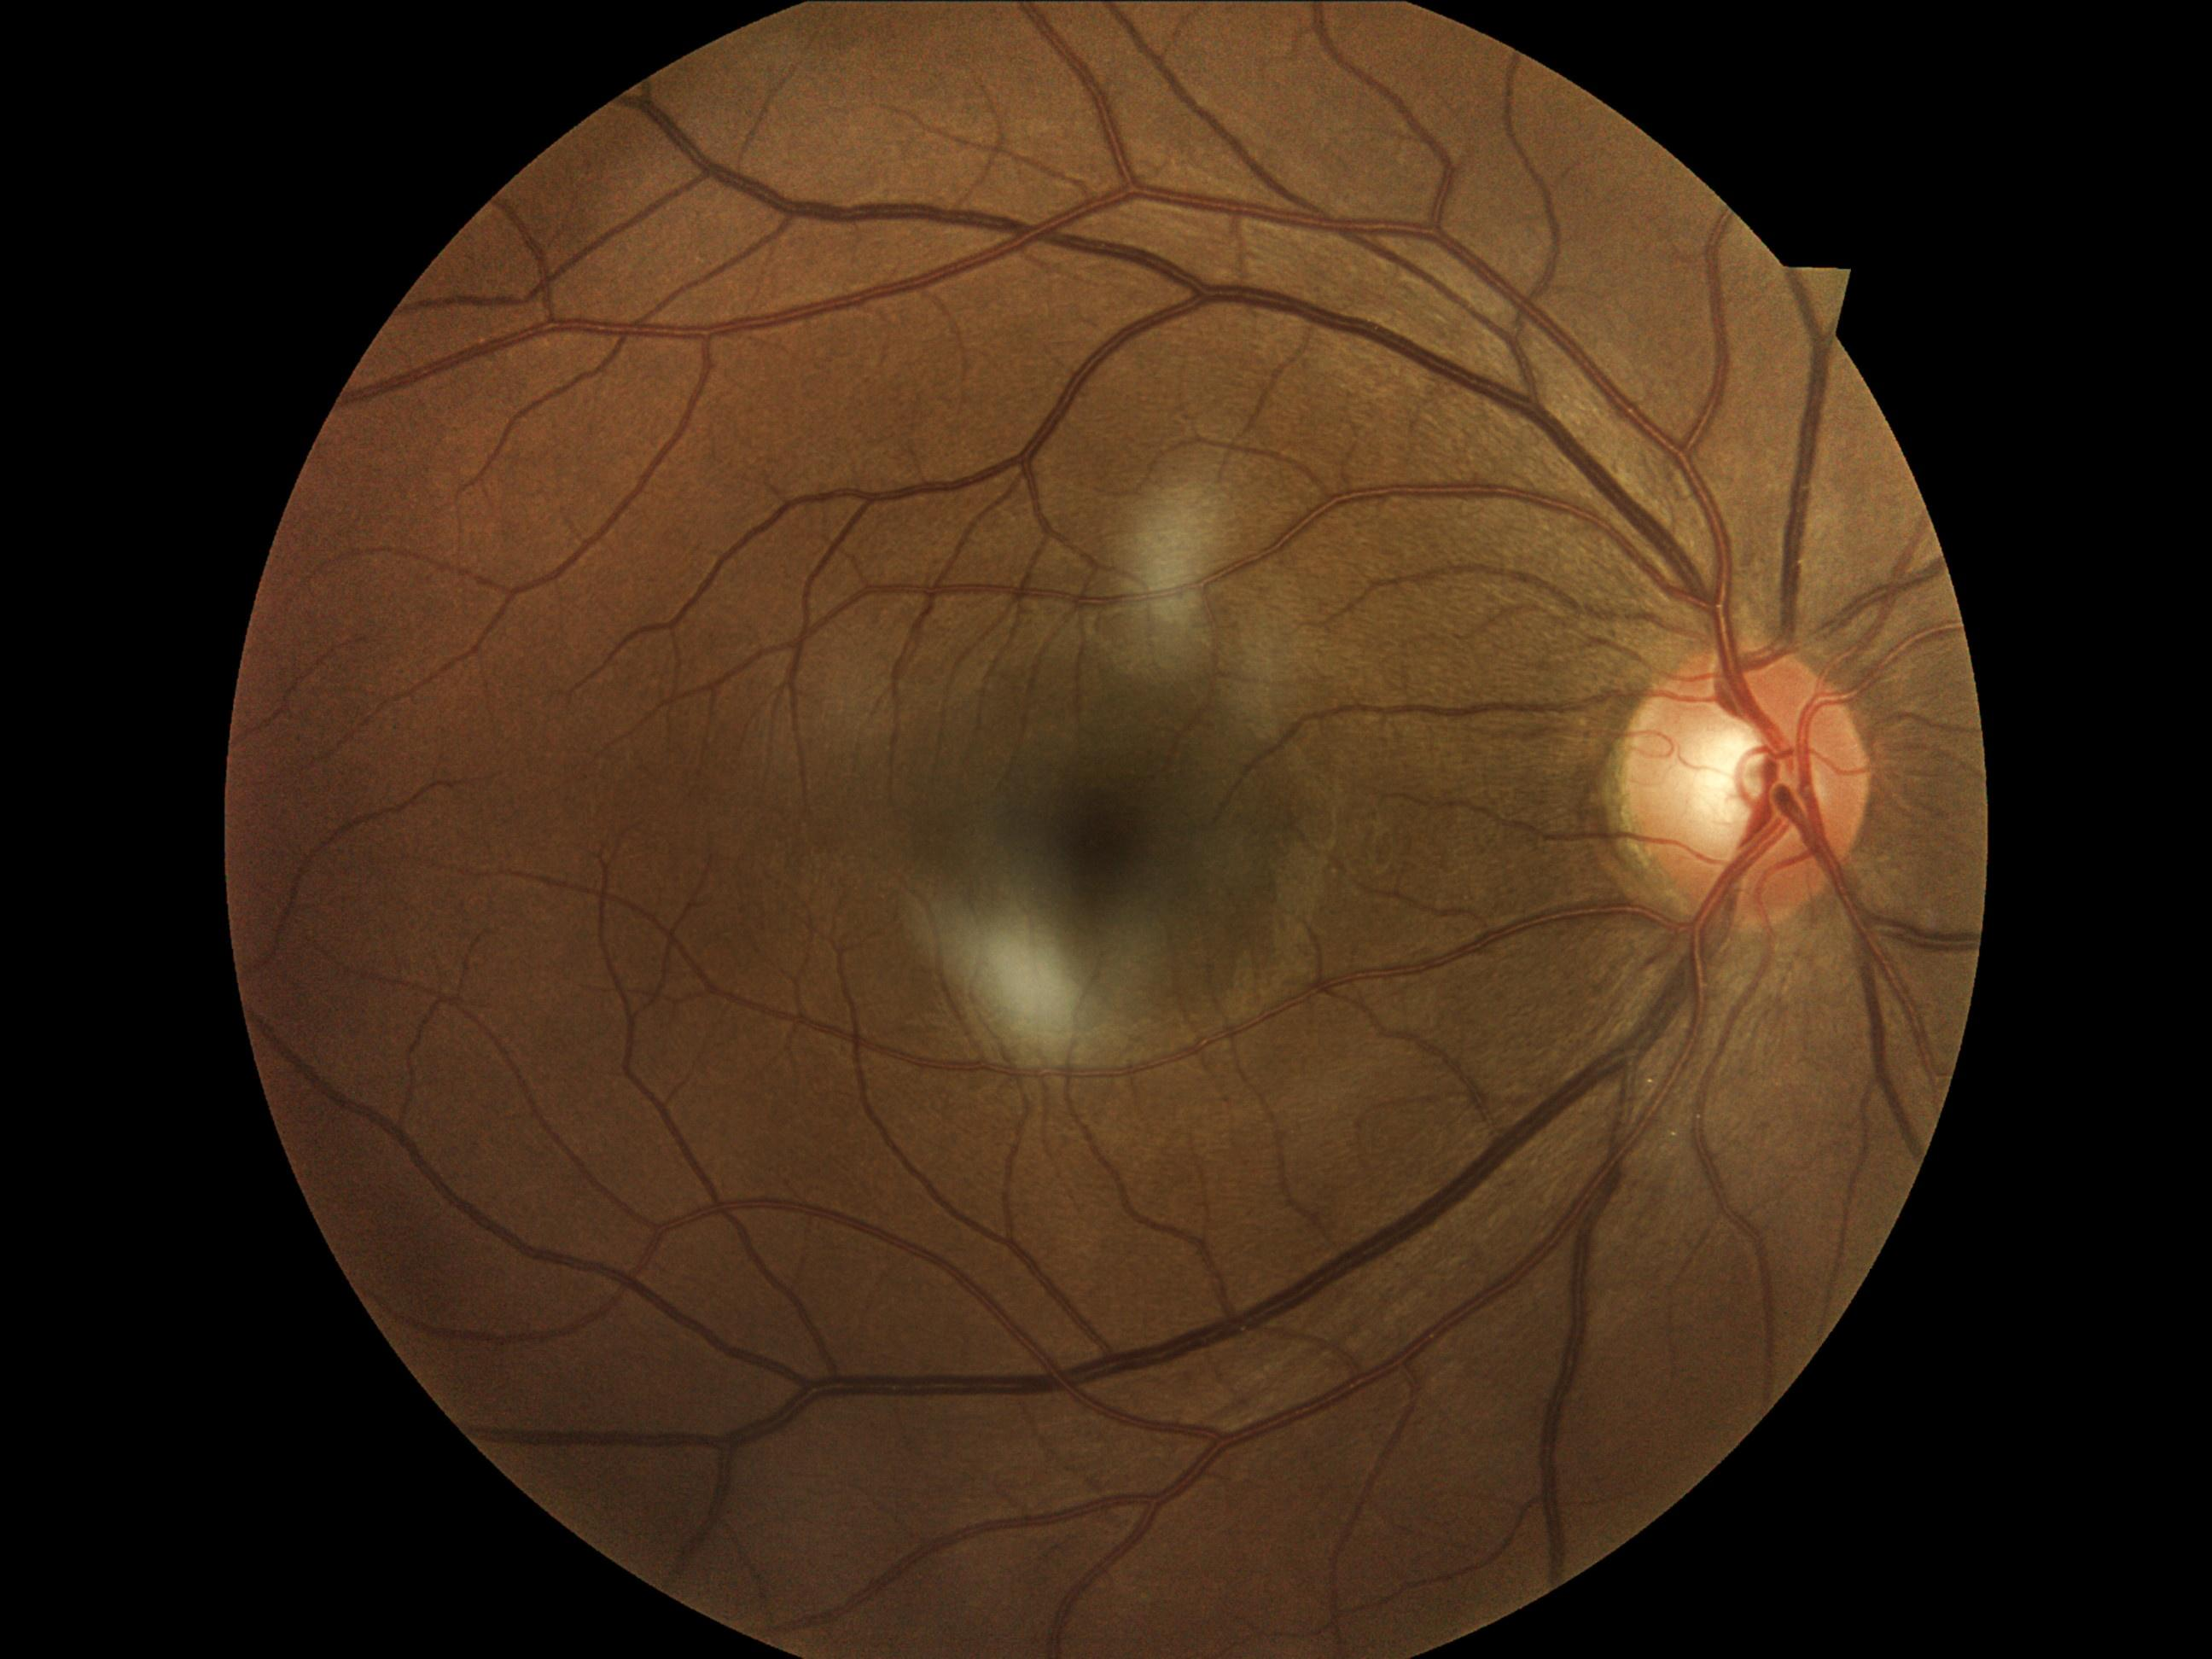Optic-nerve: (1609, 636, 1879, 946)
macula: (1040, 770, 1179, 964)
notch: (1761, 258, 1874, 347)
